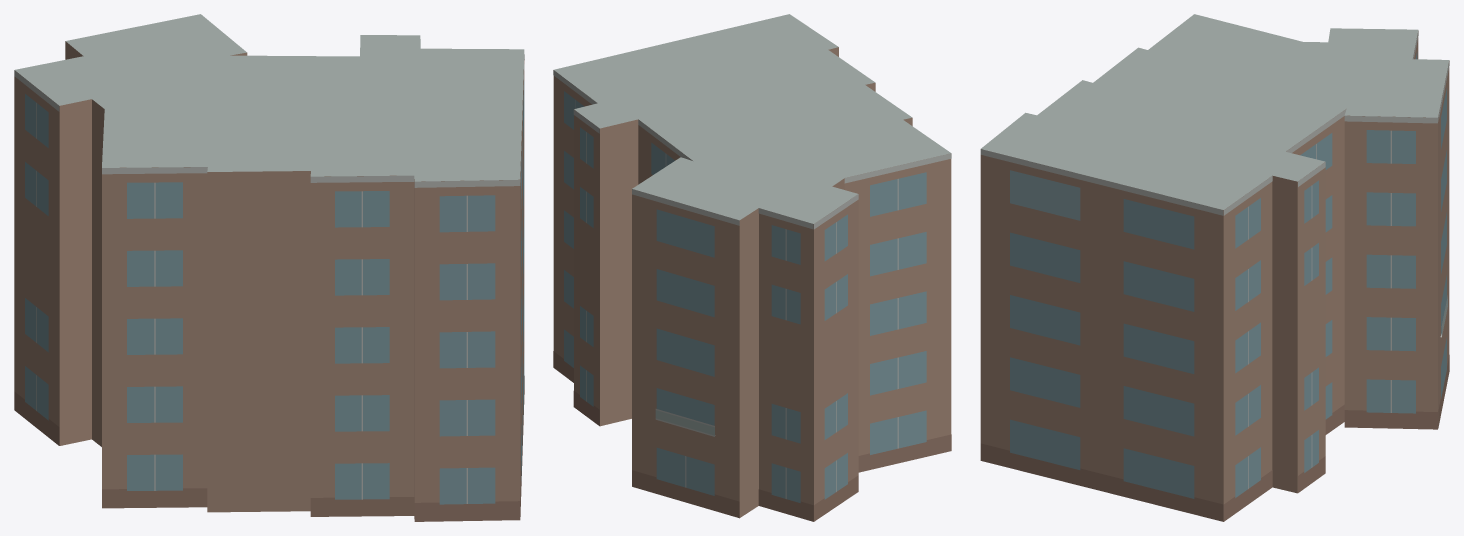
Rendered from survey-upis-32662604.glb.
3 renders of one model, left to right at view 1: azimuth 30°, elevation 25°; view 2: azimuth 150°, elevation 25°; view 3: azimuth 270°, elevation 25°, orthographic. The views are drawn at different scales.
Parts seen in each view (by area): view 1: survey-upis-32662604.tmp; view 2: survey-upis-32662604.tmp; view 3: survey-upis-32662604.tmp.
Boxes of the visible parts, box(x1,y1,x2,y2) form: survey-upis-32662604.tmp: box(14, 14, 524, 521); survey-upis-32662604.tmp: box(553, 14, 951, 521); survey-upis-32662604.tmp: box(980, 14, 1449, 521).
Size of the model in its own units: 17.82 by 13.2 by 18.
